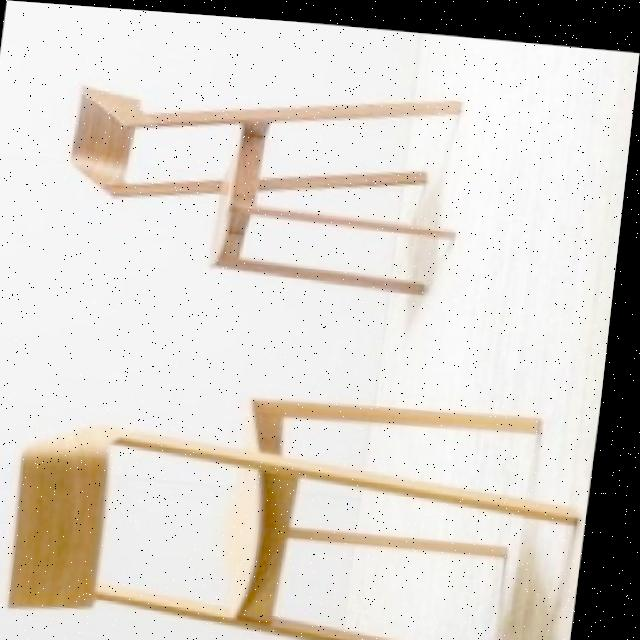sandalye: (8, 370, 599, 640), (59, 64, 470, 292)
